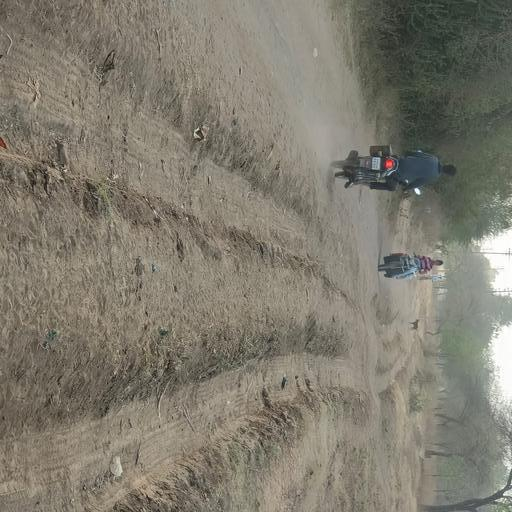vehicle_track: (0, 10, 352, 295), (0, 352, 356, 512), (221, 0, 360, 166)
